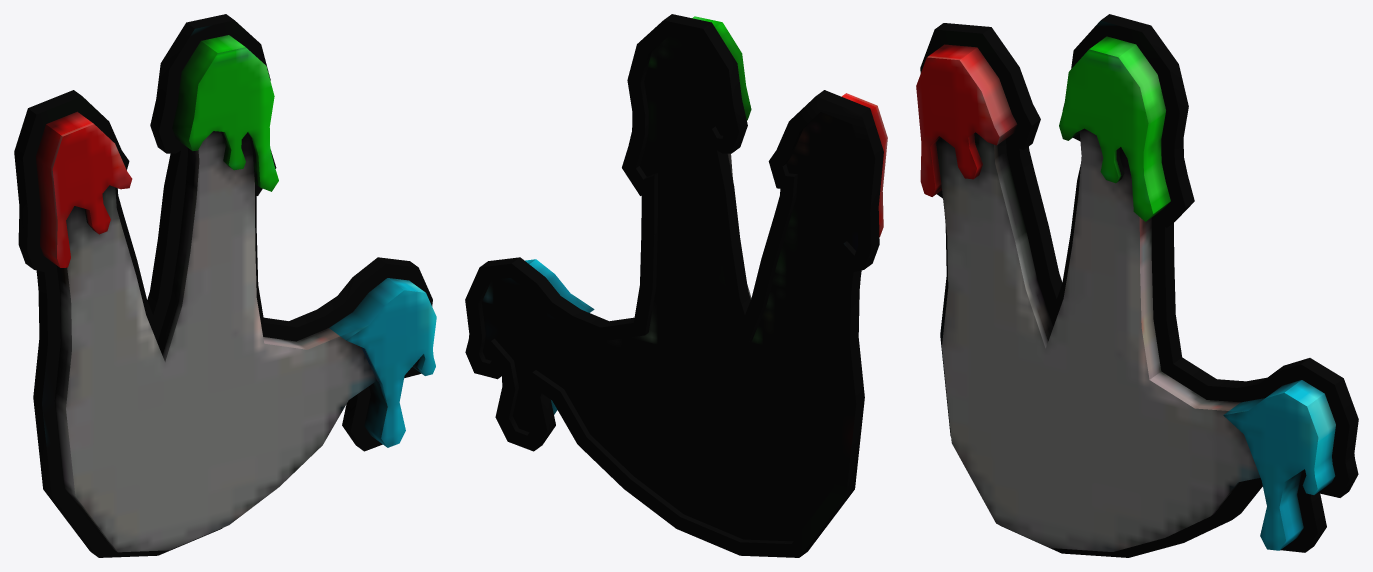
File: finger_painter_badge.glb
3 views of the same model, side by side, from view 1: azimuth 30°, elevation 25°; view 2: azimuth 150°, elevation 25°; view 3: azimuth 330°, elevation 25° (orthographic). The views are drawn at different scales.
Visible parts, largest first — view 1: FingerPainterBadge__2023_04DungeonV2_CosmeticsAtlas_mat__Mai; view 2: FingerPainterBadge__2023_04DungeonV2_CosmeticsAtlas_mat__Mai; view 3: FingerPainterBadge__2023_04DungeonV2_CosmeticsAtlas_mat__Mai.
Boxes of the visible parts, box(x1,y1,x2,y2) form: FingerPainterBadge__2023_04DungeonV2_CosmeticsAtlas_mat__Mai: box(14, 14, 436, 557); FingerPainterBadge__2023_04DungeonV2_CosmeticsAtlas_mat__Mai: box(465, 14, 887, 557); FingerPainterBadge__2023_04DungeonV2_CosmeticsAtlas_mat__Mai: box(916, 14, 1358, 557).
Size of the model in its own units: 0.136 by 0.1641 by 0.0146.
1 material, 1 textured.
